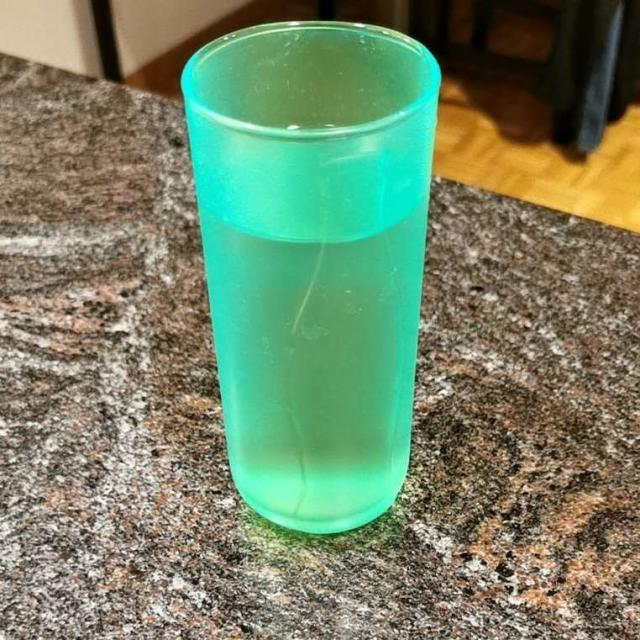water: (187, 79, 435, 533)
